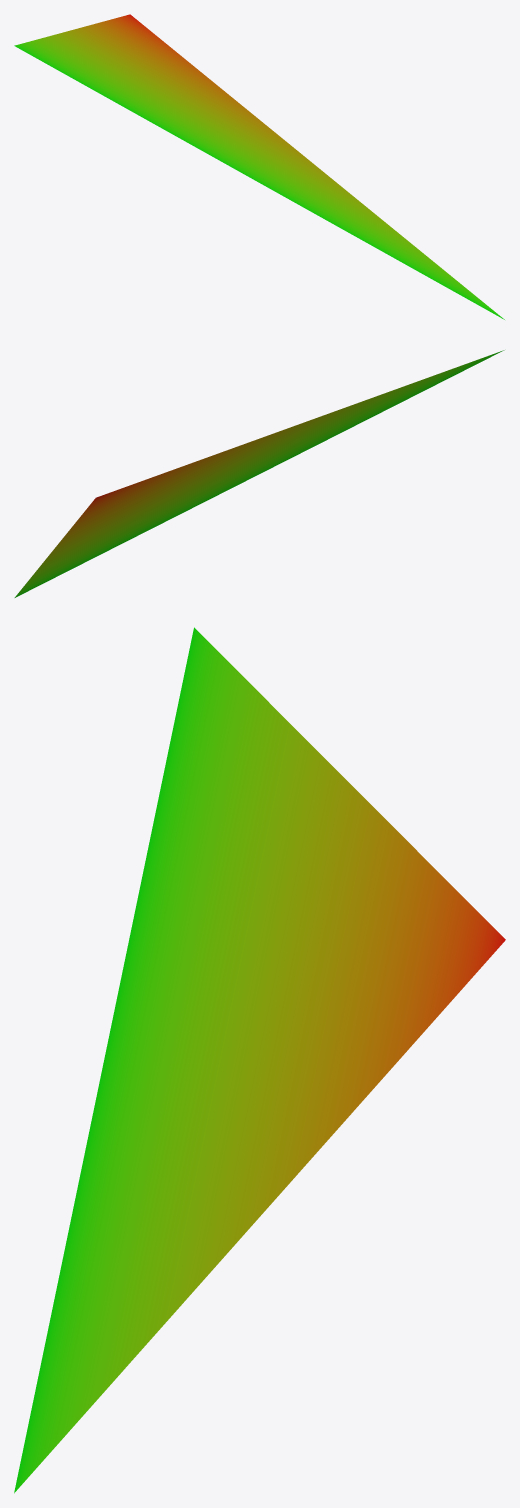
File: border_patch_10.obj
3 views of the same model, one above another, from view 1: azimuth 30°, elevation 25°; view 2: azimuth 150°, elevation 25°; view 3: azimuth 270°, elevation 25° (orthographic). The views are drawn at different scales.
Bounding box in the file's own units: 0.9272 × 0.691 × 0.5781.
